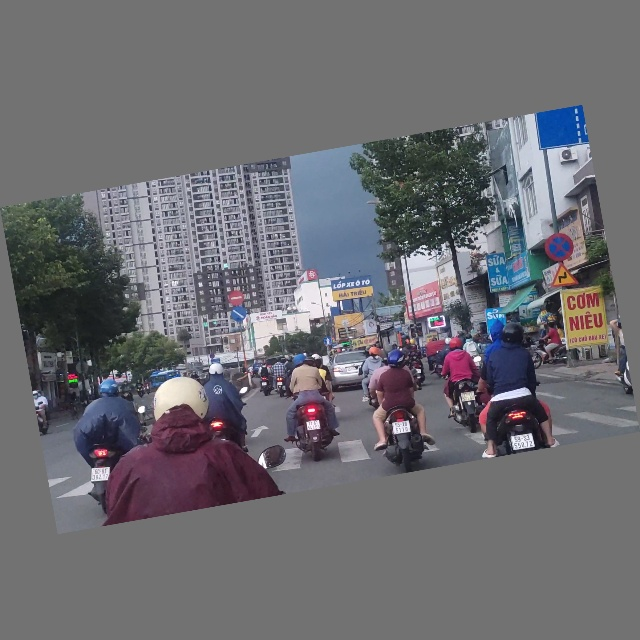I.407a: (323, 337, 332, 346)
I.434a: (393, 321, 403, 333)
P.102: (228, 290, 245, 307)
P.130: (543, 231, 577, 265)
R.302a: (229, 305, 249, 324)
W.202b: (546, 261, 580, 291)
